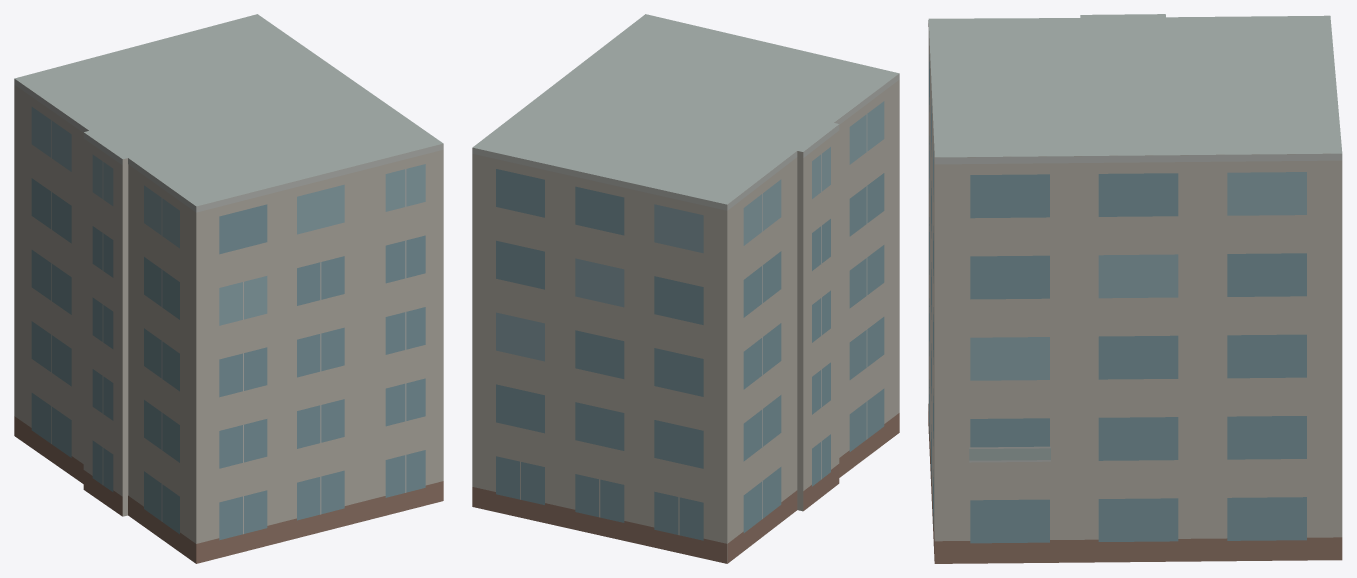
File: survey-upis-32928313.glb
The picture shows the model from 3 angles, left to right: view 1: azimuth 30°, elevation 25°; view 2: azimuth 150°, elevation 25°; view 3: azimuth 270°, elevation 25°; orthographic projection. The views are drawn at different scales.
Parts seen in each view (by area): view 1: survey-upis-32928313.tmp; view 2: survey-upis-32928313.tmp; view 3: survey-upis-32928313.tmp.
Boxes of the visible parts, box(x1,y1,x2,y2) form: survey-upis-32928313.tmp: box(14, 14, 443, 563); survey-upis-32928313.tmp: box(472, 14, 899, 563); survey-upis-32928313.tmp: box(928, 14, 1342, 563).
Bounding box in the file's own units: 10.76 × 14.2 × 13.11.
